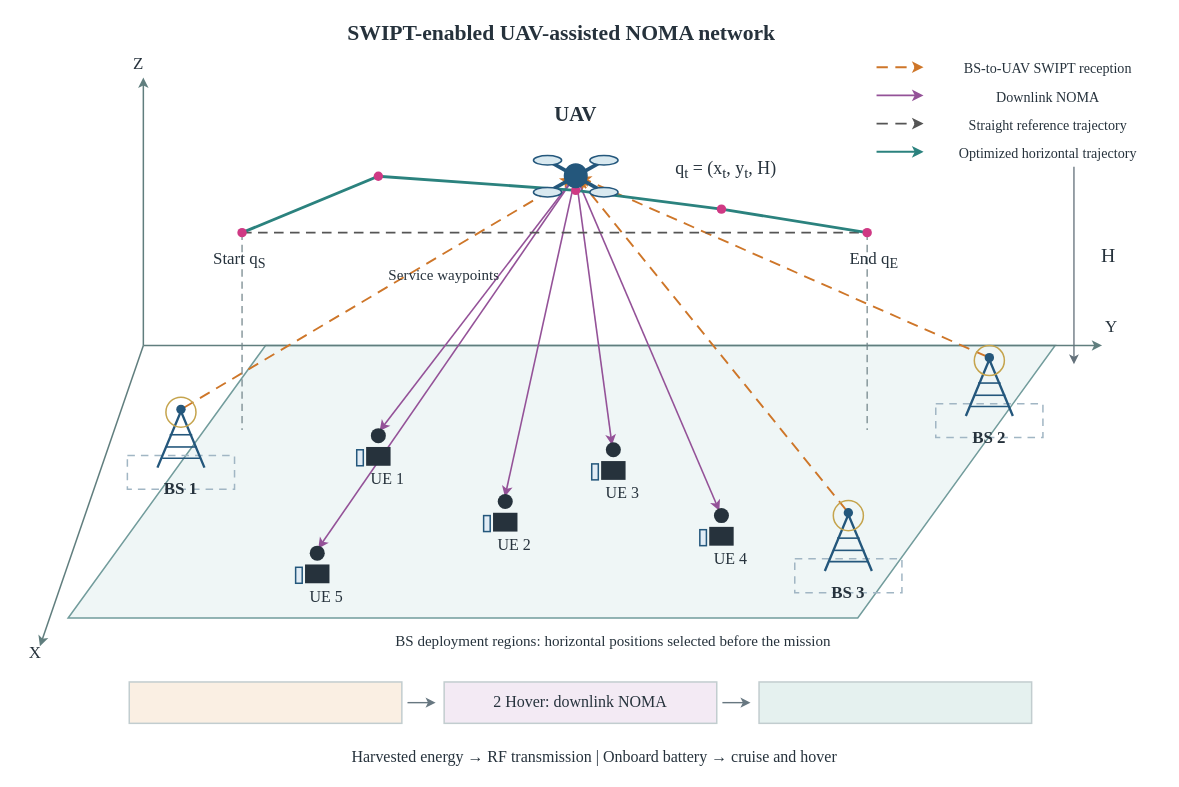
The diagram is 1179 pixels wide and 787 high, and some of its shapes have lost their labels. The shapes that lost their labels are listed below. From the top down, each one's centre as x and y in pixels, then its label:
the point at 265,702: 1 Hover: receive & harvest
the point at 895,702: 3 Fly to the next waypoint
